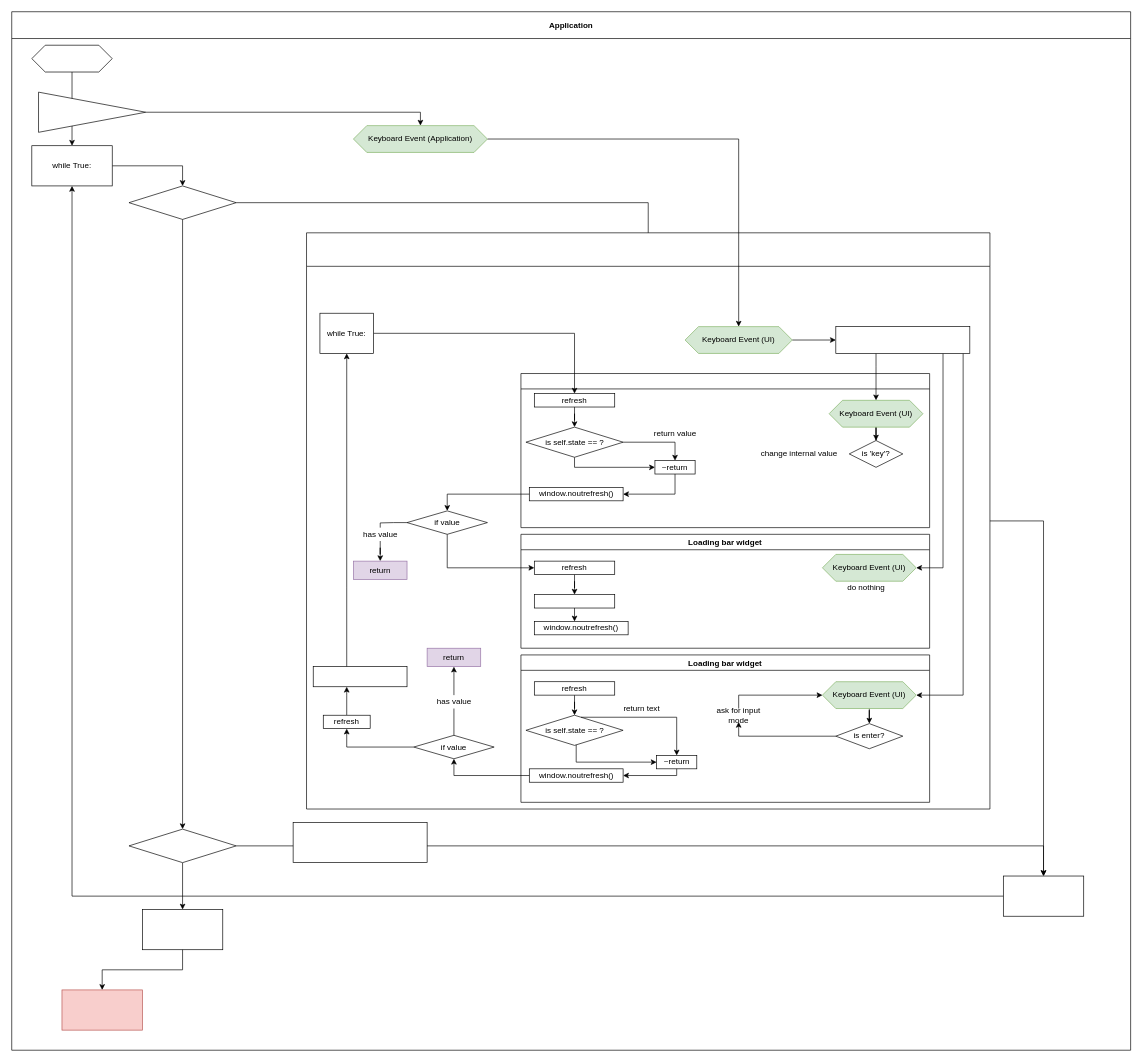
Image size: 1142x1062. Some labels were removed from this diagram. Each missing label, with the box of its shape:
await asyncio.sleep(0.1): (313, 666, 407, 687)
Button Widget: (520, 373, 930, 528)
else: (142, 909, 223, 950)
end of program: (61, 989, 142, 1030)
for every widget: (835, 326, 970, 353)
increase counter: (534, 594, 615, 608)
Inialize event hooks: (38, 91, 146, 132)
Menu UI: (306, 232, 990, 809)
run(): (31, 45, 112, 72)
some ui here: (292, 822, 427, 863)
state=<return value>: (1003, 875, 1084, 916)
state==<ui>: (128, 828, 236, 863)
state==menu: (128, 185, 236, 219)
